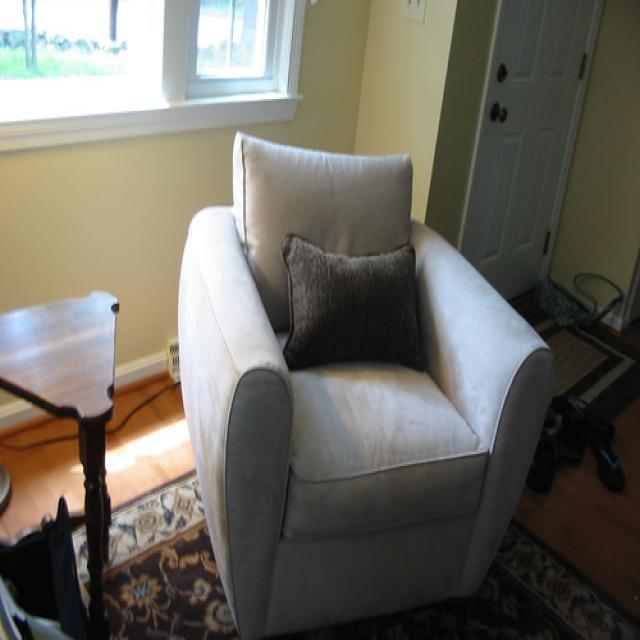chair: (174, 131, 558, 636)
